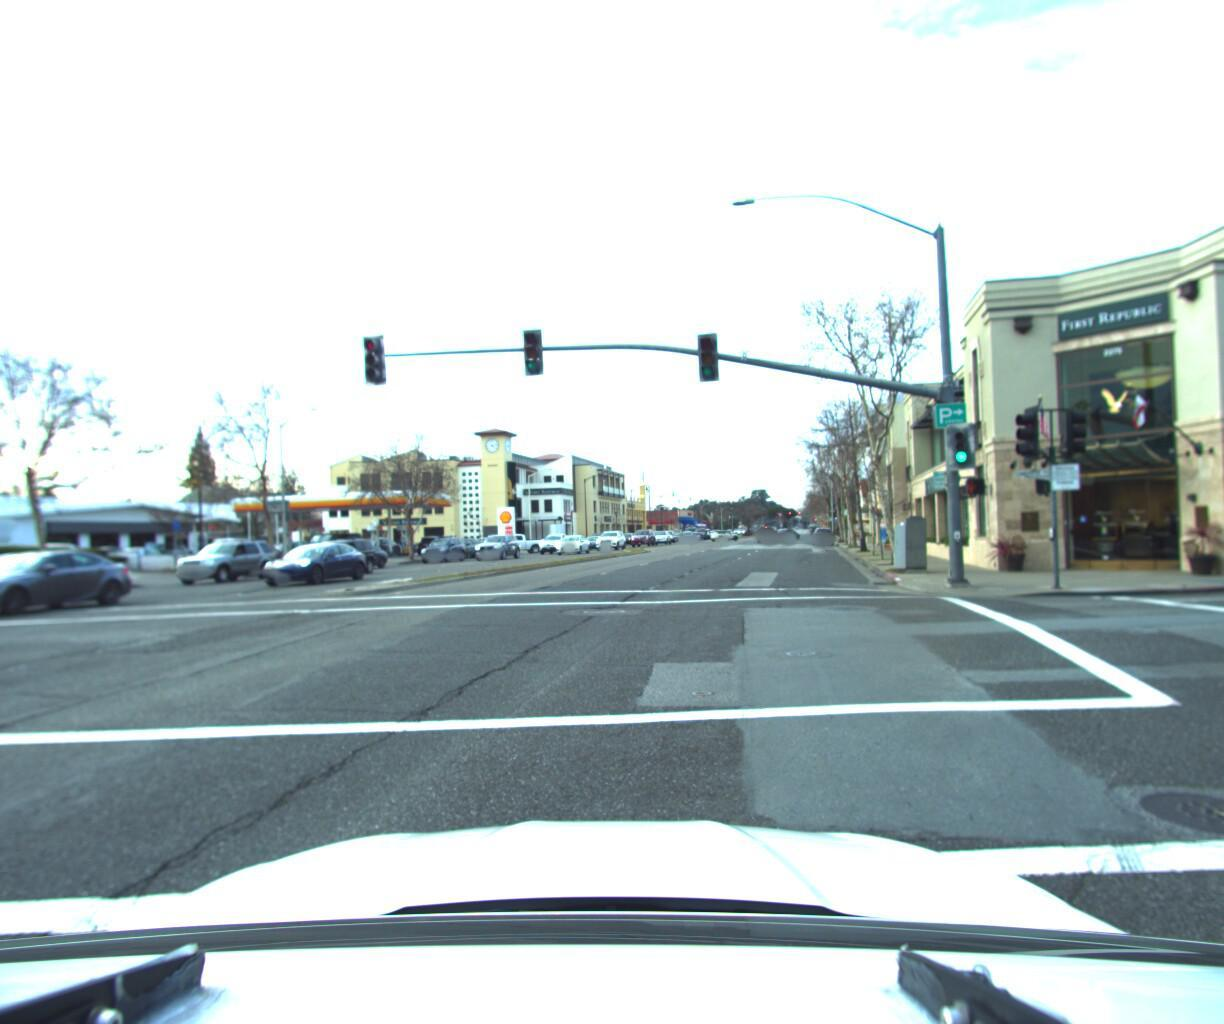car: (253, 542, 371, 588), (174, 539, 285, 586), (277, 537, 366, 580), (25, 541, 105, 579), (106, 544, 178, 576), (329, 541, 397, 570), (418, 531, 470, 563), (470, 531, 524, 560), (495, 529, 555, 551), (414, 535, 456, 556), (552, 531, 591, 554), (536, 530, 573, 553), (593, 529, 627, 550), (627, 526, 655, 544), (810, 524, 833, 545)
